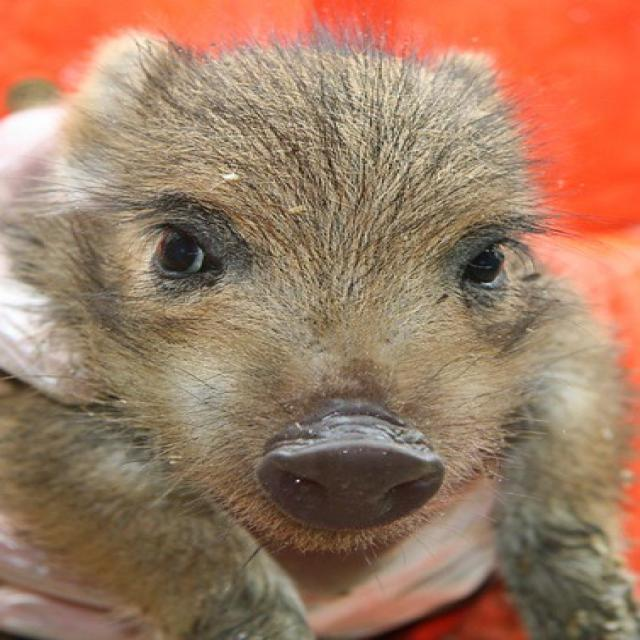boar: (2, 10, 631, 636)
